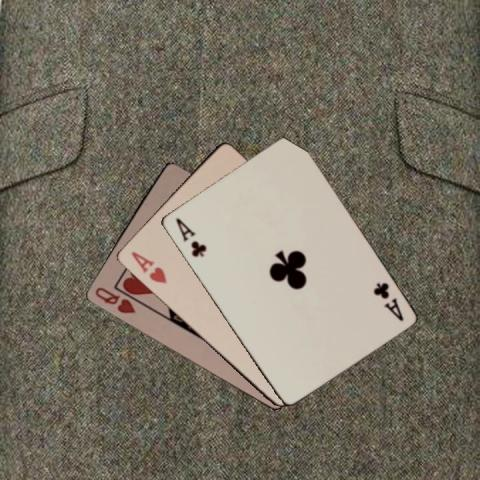Ac: (172, 214, 207, 258), (370, 279, 405, 322)
Ah: (128, 248, 168, 285)
Qh: (91, 284, 137, 315)
